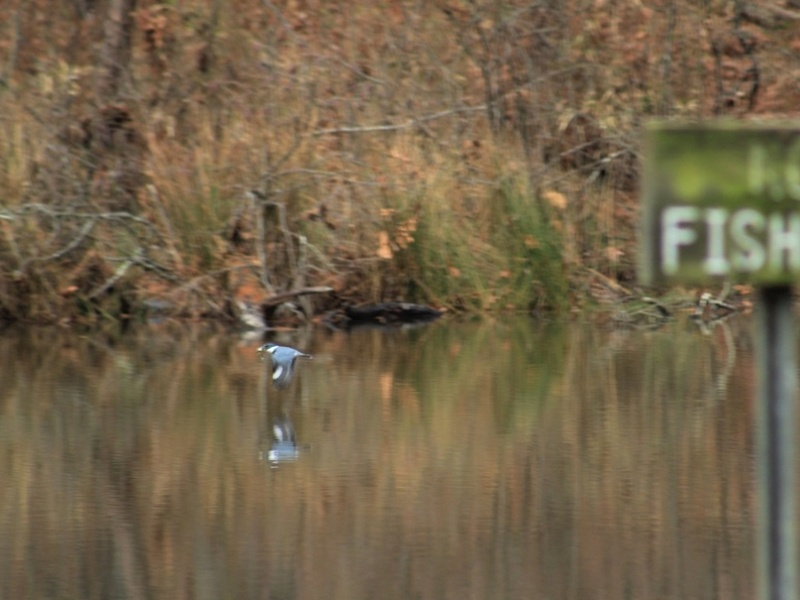kingfisher: (256, 341, 310, 387)
